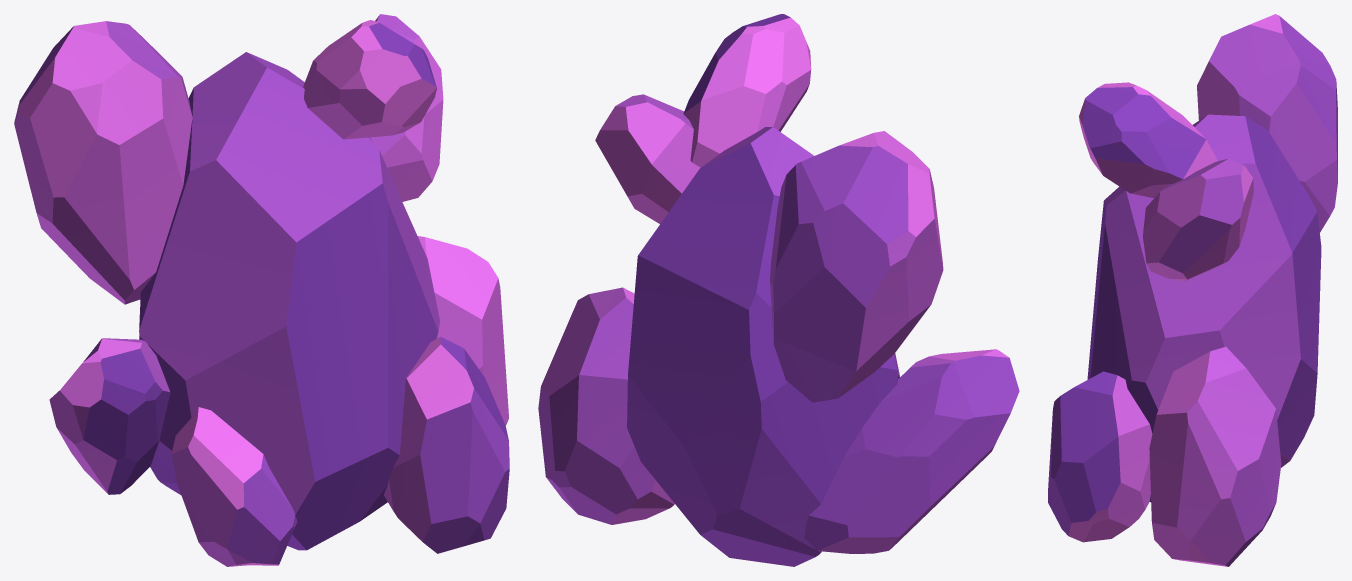
The model's file is Diamond.fbx.
The picture shows the model from 3 angles, left to right: view 1: azimuth 30°, elevation 25°; view 2: azimuth 150°, elevation 25°; view 3: azimuth 270°, elevation 25°; orthographic projection. The views are drawn at different scales.
Visible parts, largest first — view 1: Stone1; view 2: Stone1; view 3: Stone1.
Boxes of the visible parts, x1,y1,x2,y2 form: Stone1: [14, 14, 509, 566]; Stone1: [538, 14, 1019, 566]; Stone1: [1048, 14, 1337, 566].
Bounding box in the file's own units: 1.12 × 1.16 × 0.7188.
Materials: 1 (1 with a texture image).
